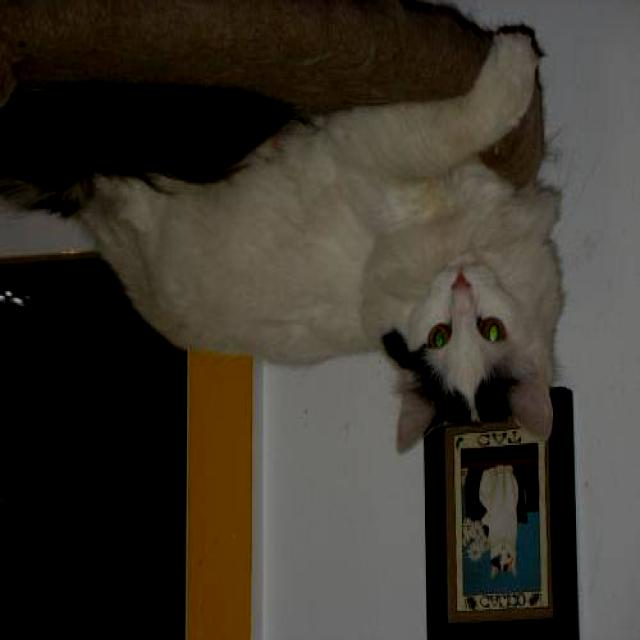Kucing: (21, 19, 594, 457)
